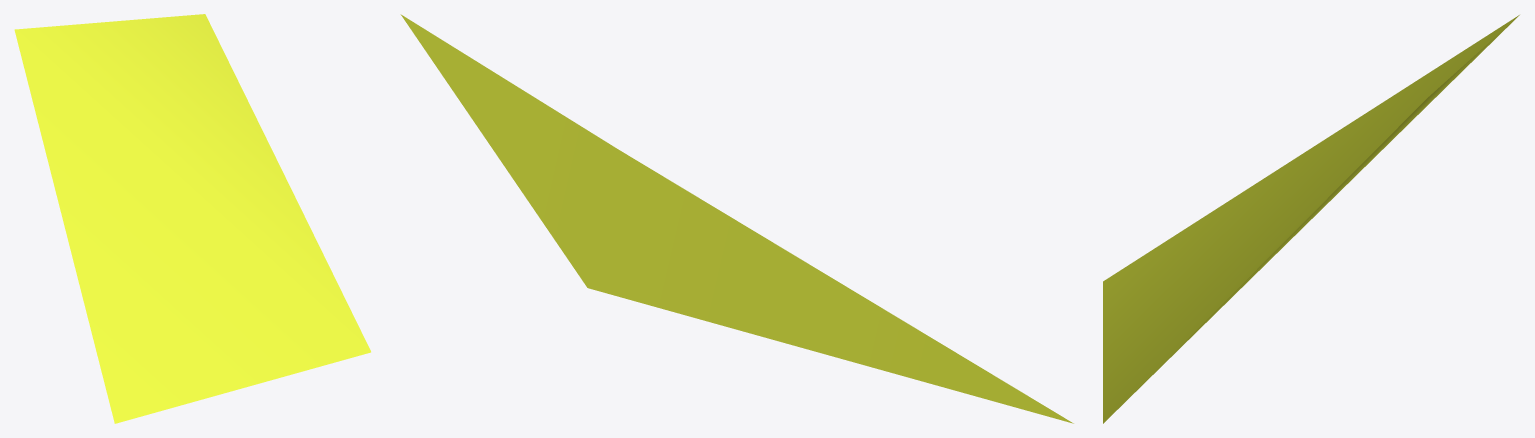
The model's file is b_polySurface655_b_BMW_i8Elite_2017CalliperGloss_Material1_0.glb.
3 views of the same model, side by side, from view 1: azimuth 30°, elevation 25°; view 2: azimuth 150°, elevation 25°; view 3: azimuth 270°, elevation 25° (orthographic). The views are drawn at different scales.
Parts seen in each view (by area): view 1: b:polySurface655_b:BMW_i8Elite_2017CalliperGloss_Material1_0; view 2: b:polySurface655_b:BMW_i8Elite_2017CalliperGloss_Material1_0; view 3: b:polySurface655_b:BMW_i8Elite_2017CalliperGloss_Material1_0.
Part boxes in pixels (box(x1,y1,x2,y2)): b:polySurface655_b:BMW_i8Elite_2017CalliperGloss_Material1_0: box(14, 14, 370, 423); b:polySurface655_b:BMW_i8Elite_2017CalliperGloss_Material1_0: box(400, 14, 1073, 423); b:polySurface655_b:BMW_i8Elite_2017CalliperGloss_Material1_0: box(1103, 15, 1519, 423).
Bounding box in the file's own units: 0.00905 × 0.00871 × 0.0104.
